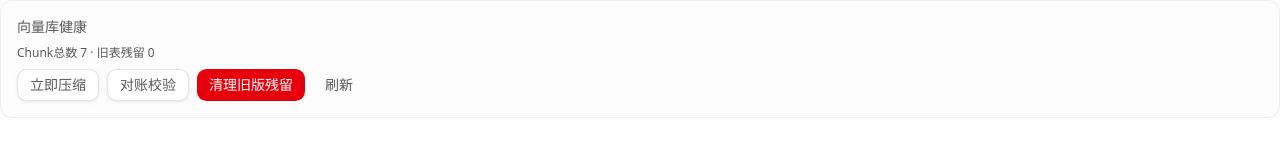
Test: VectorHealthCard › 清理旧版残留：两次确认通过 → 删除并提示完成；按钮为危险样式
Check: the text "Chunk总数 7 · 旧表残留 0" is shown, box [17, 44, 155, 61]
Click the button with test id "vector-health-drop-legacy" at (251, 85), box [197, 69, 305, 101]
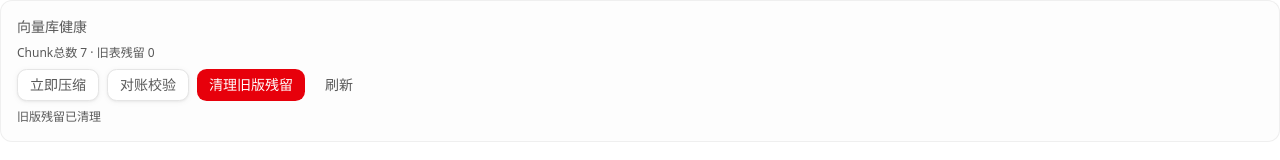
Check: the text "旧版残留已清理" is shown, box [17, 108, 101, 125]
